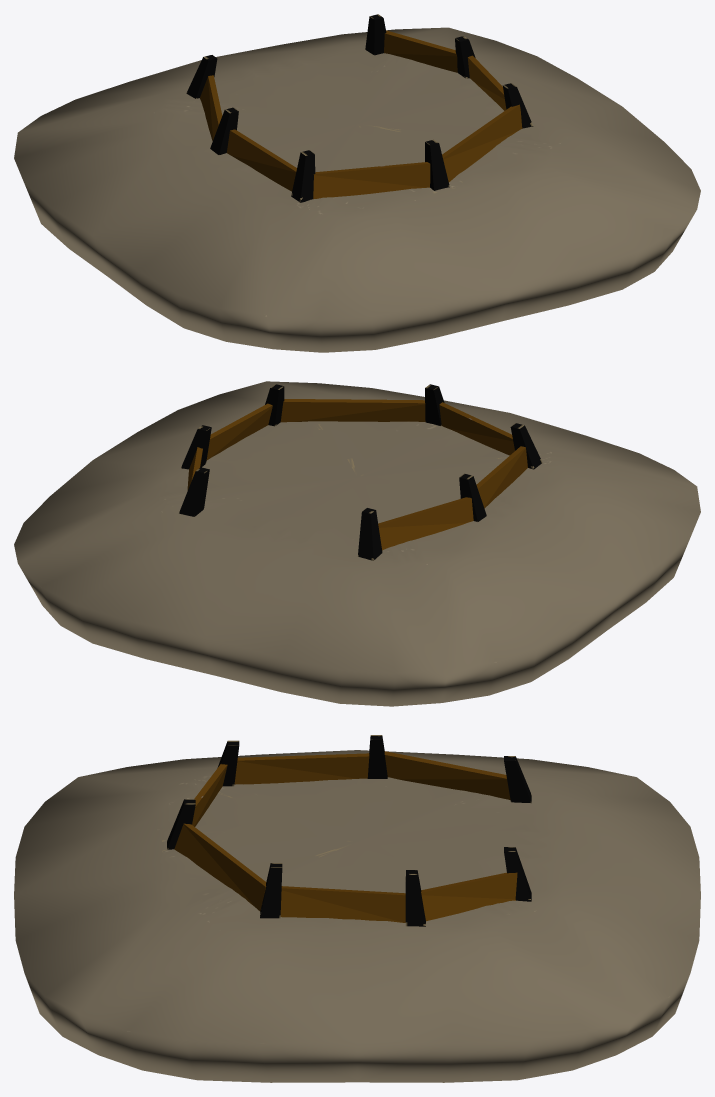
Rendered from desert_base.obj.
The picture shows the model from 3 angles, top to bottom: view 1: azimuth 30°, elevation 25°; view 2: azimuth 150°, elevation 25°; view 3: azimuth 270°, elevation 25°; orthographic projection. The views are drawn at different scales.
Visible parts, largest first — view 1: Cube; view 2: Cube; view 3: Cube.
Boxes of the visible parts, bbox=[...] form: Cube: bbox=[14, 14, 700, 352]; Cube: bbox=[14, 381, 700, 706]; Cube: bbox=[14, 735, 700, 1082].
Size of the model in its own units: 584 by 136 by 584.
